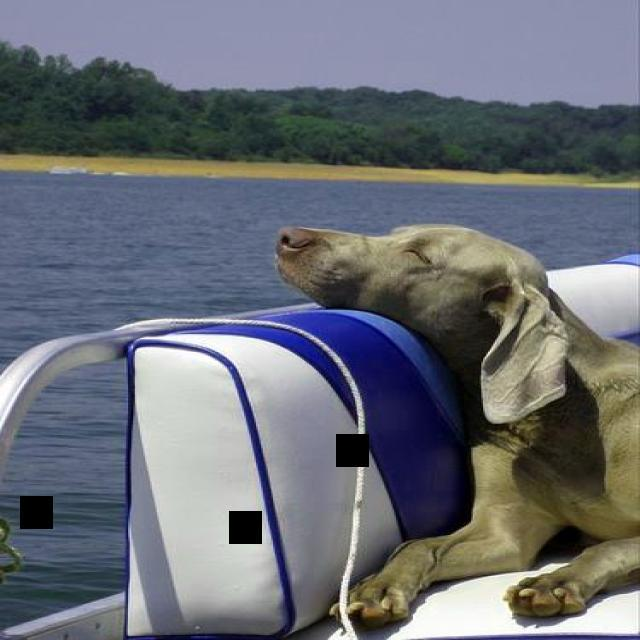adult_dog: (271, 222, 640, 628)
